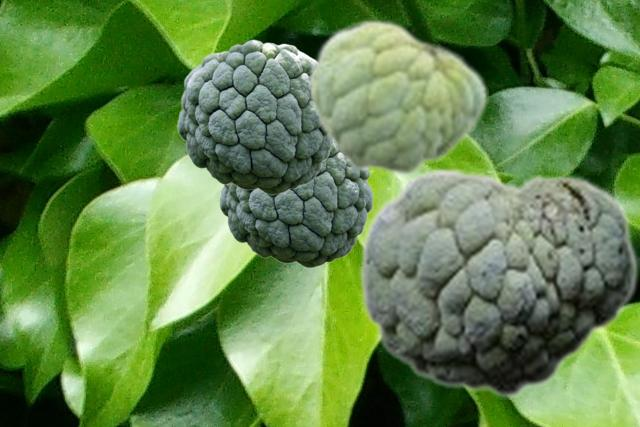atis: (358, 166, 638, 398), (306, 17, 487, 177), (177, 39, 331, 194), (219, 147, 372, 267)
